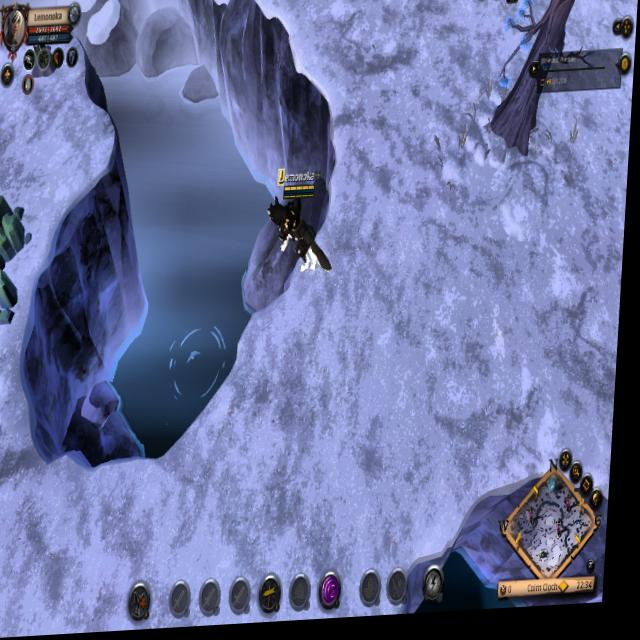fish: (166, 320, 237, 407)
